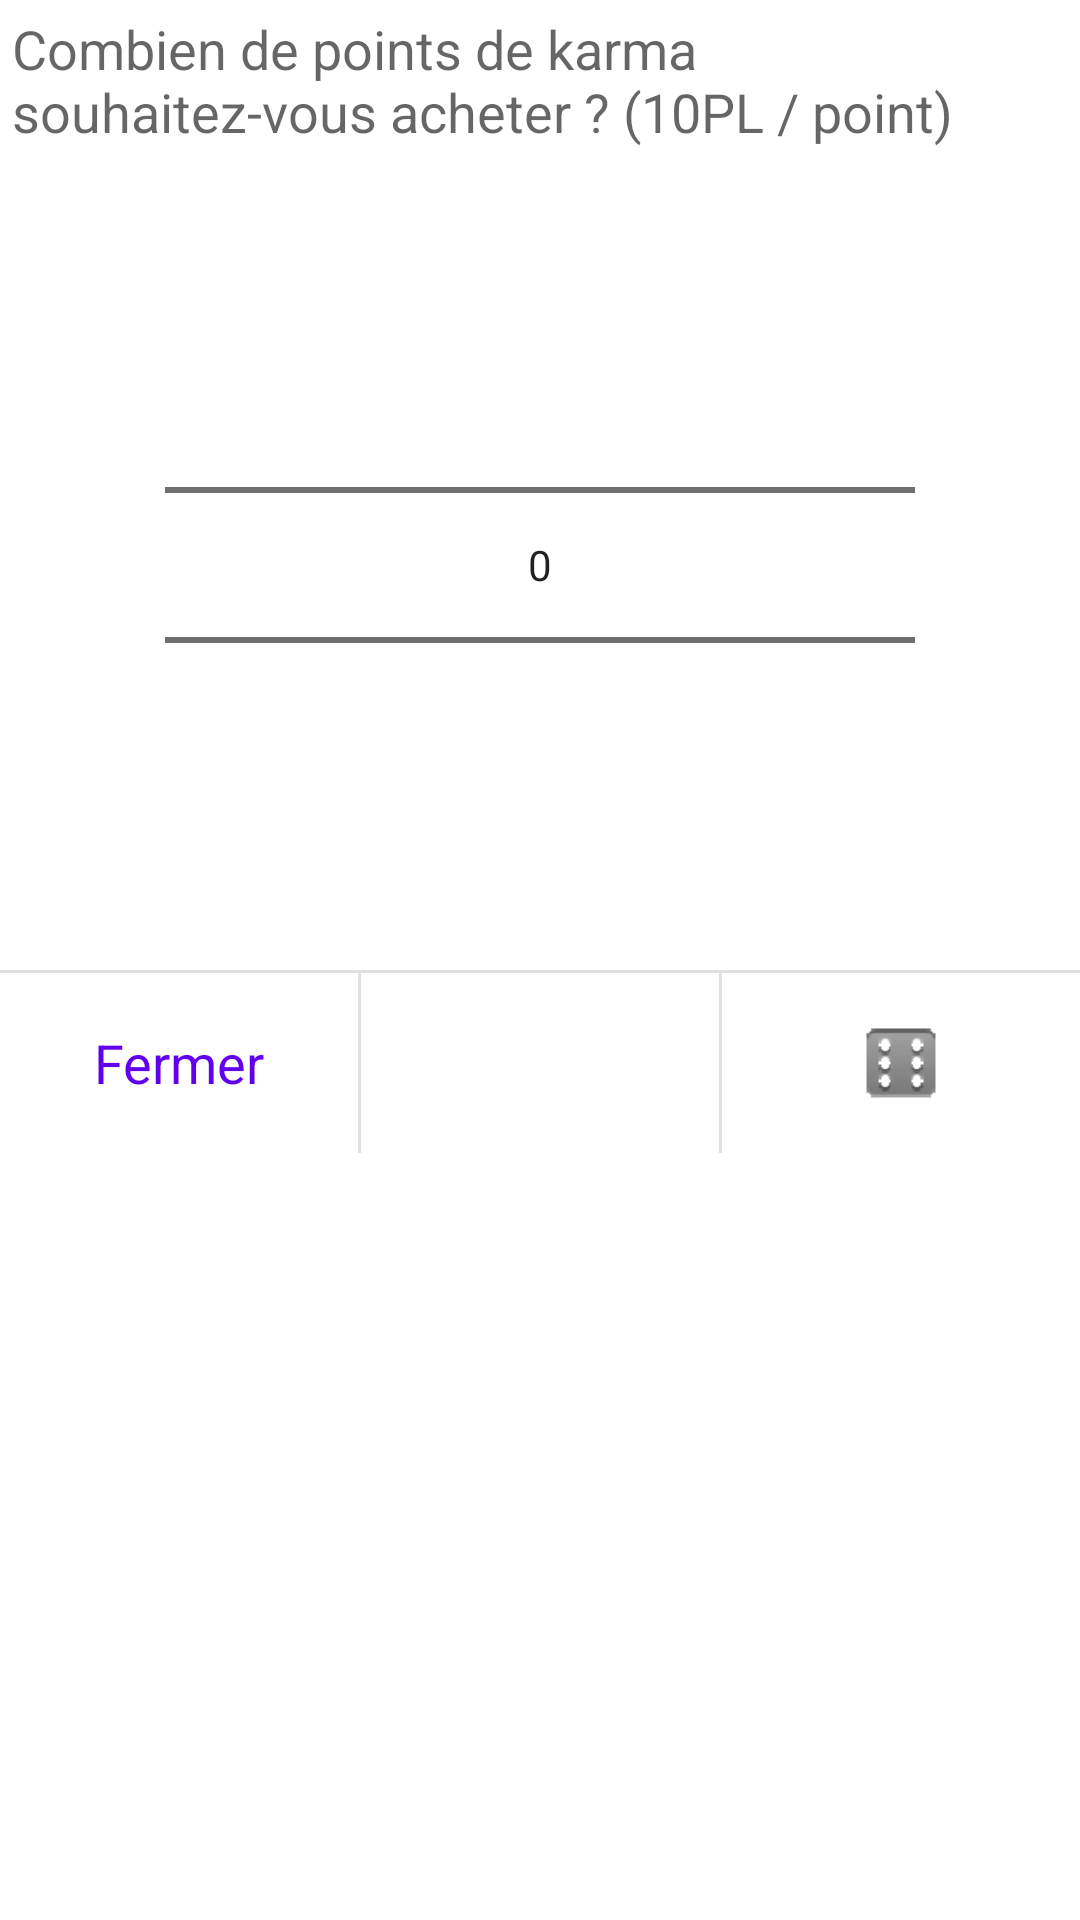

Where to tap for icons on this 1080w x 1920h app screen, as (x=x, y=y):
Lancer les dés: (x=901, y=1063)
